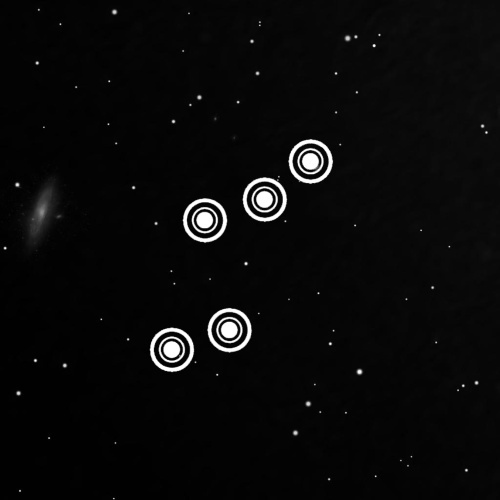lyra: (135, 117, 344, 390)
